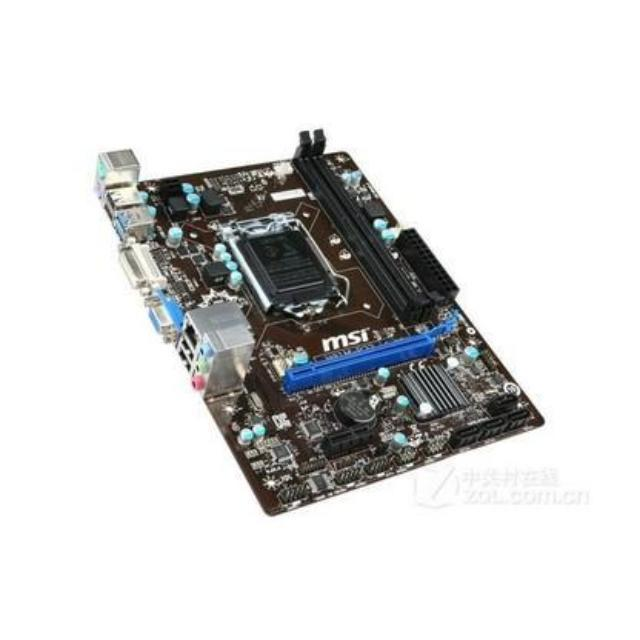Mainboard: (91, 136, 544, 524)
